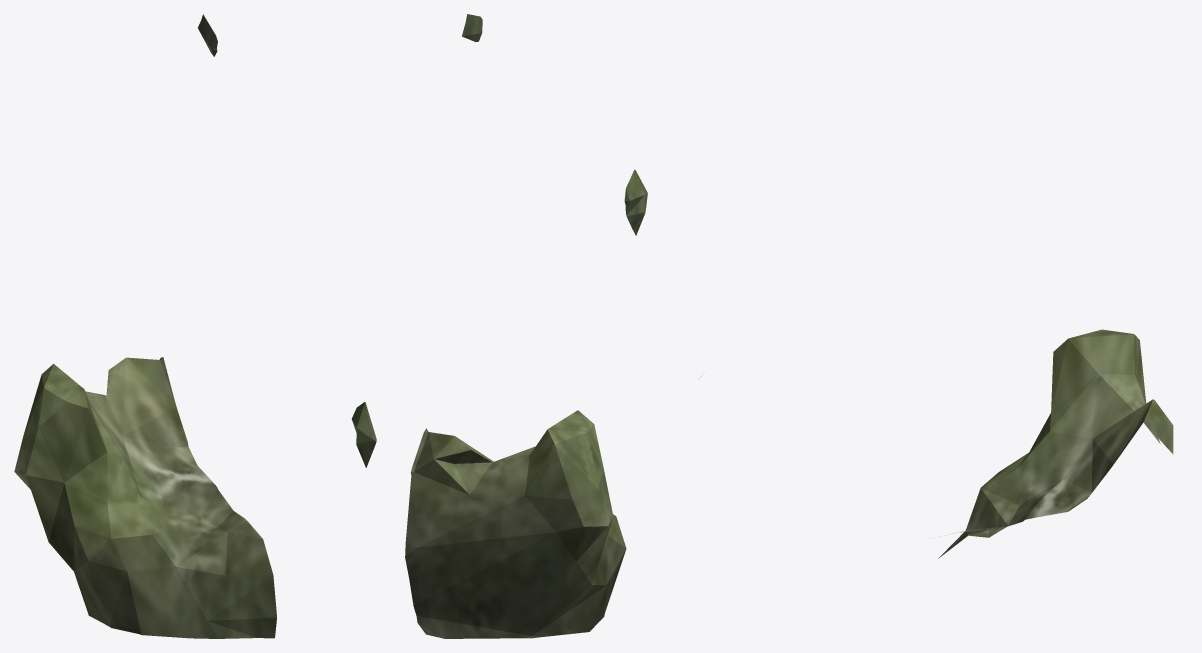
3 views of the same model, side by side, from view 1: azimuth 30°, elevation 25°; view 2: azimuth 150°, elevation 25°; view 3: azimuth 270°, elevation 25° (orthographic). The views are drawn at different scales.
Size of the model in its own units: 0.7683 by 2.58 by 1.91.
Materials: 1 (1 with a texture image).
